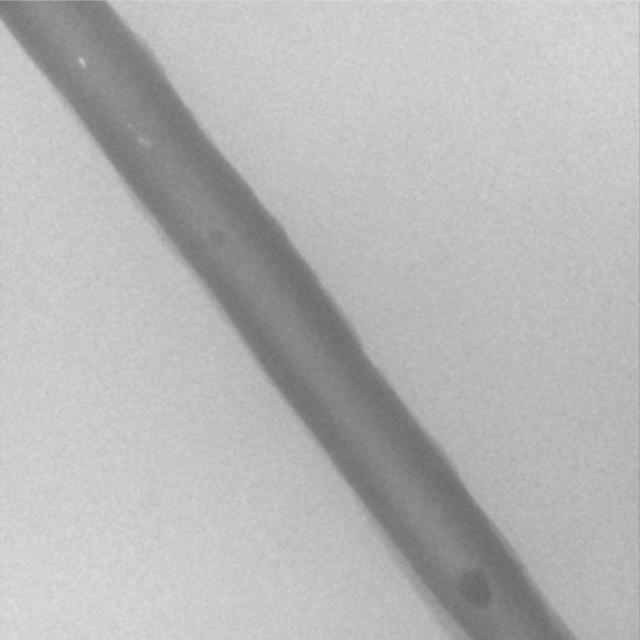air hole: (136, 133, 149, 149), (76, 56, 86, 68)
